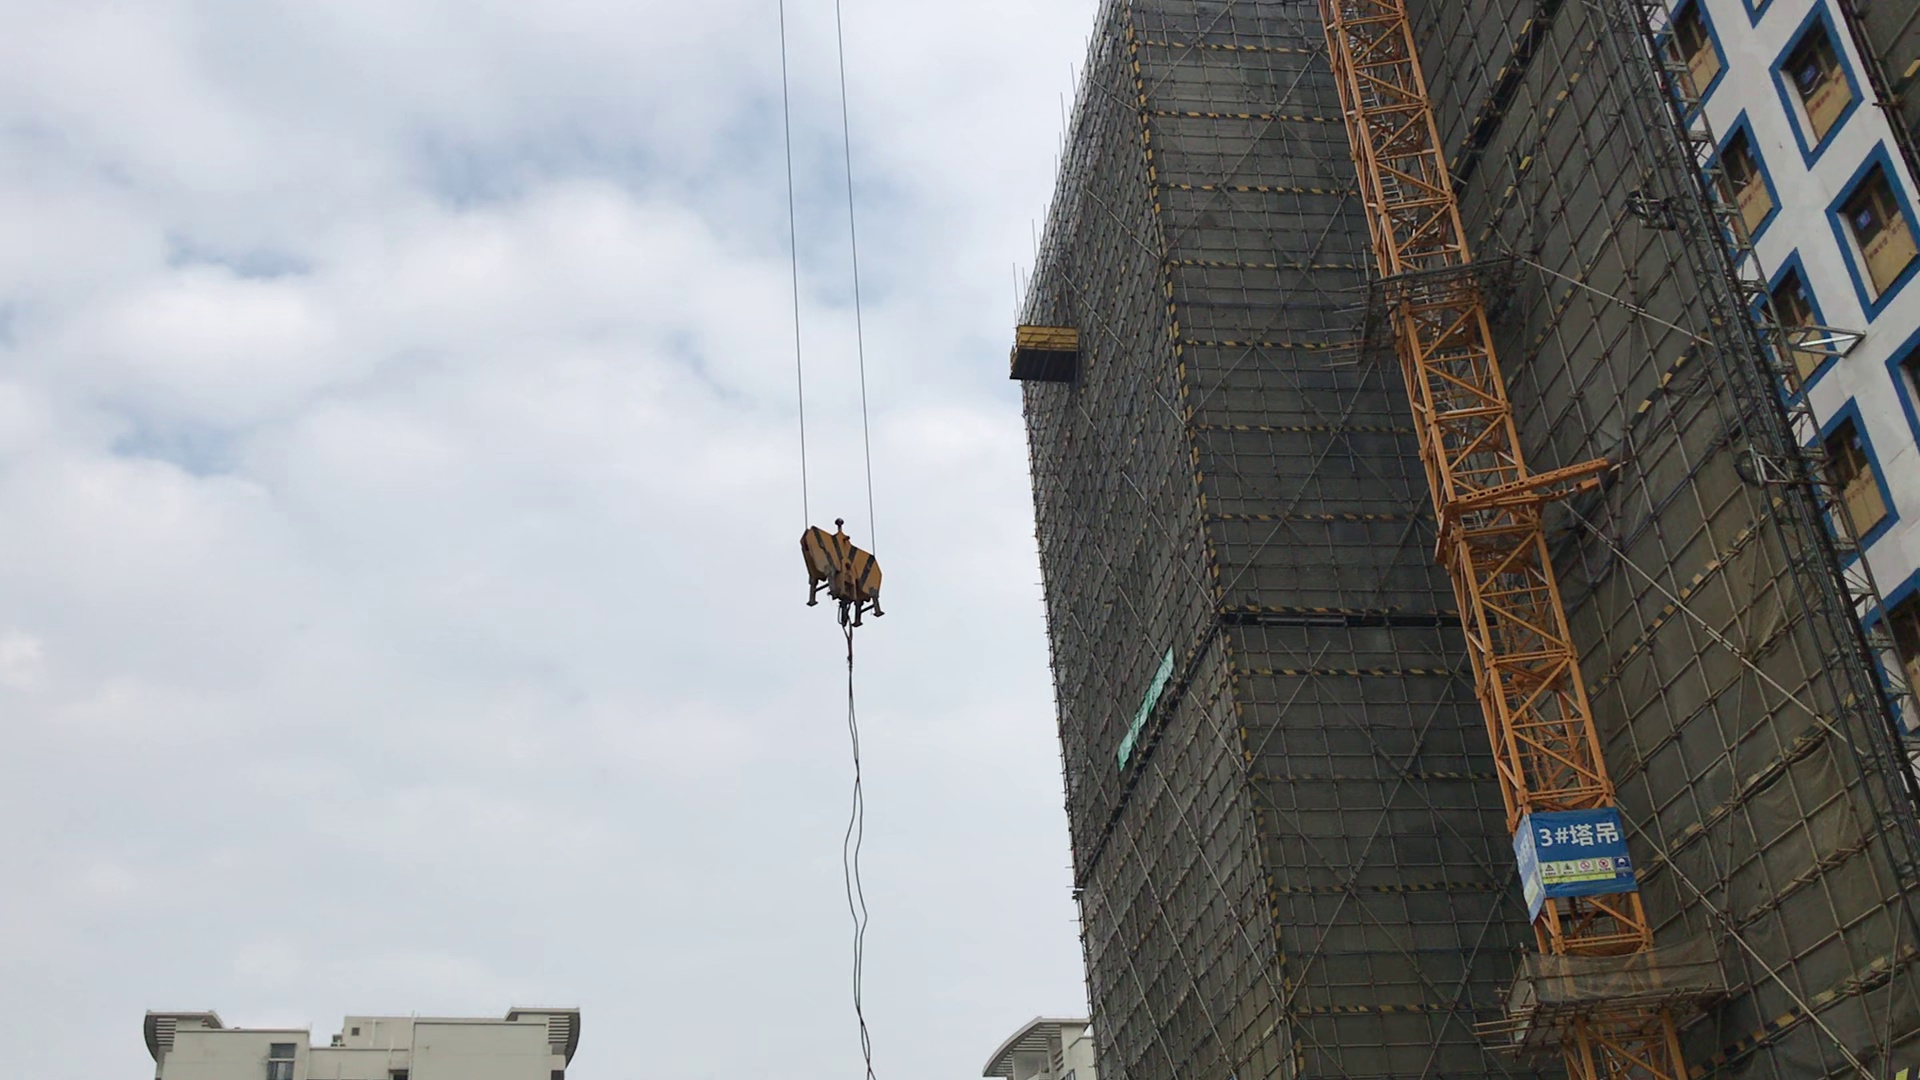hook: (790, 513, 897, 630)
